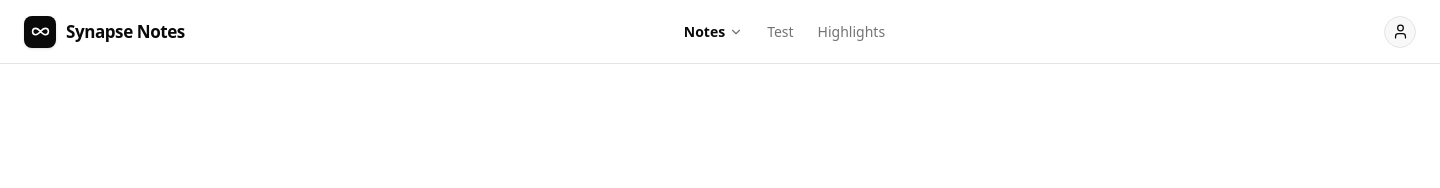
TopBar › the Notes menu lists only subjects, opens on click and closes on Escape
Click the button "Notes". click: (714, 32)
box: [684,17,743,46]
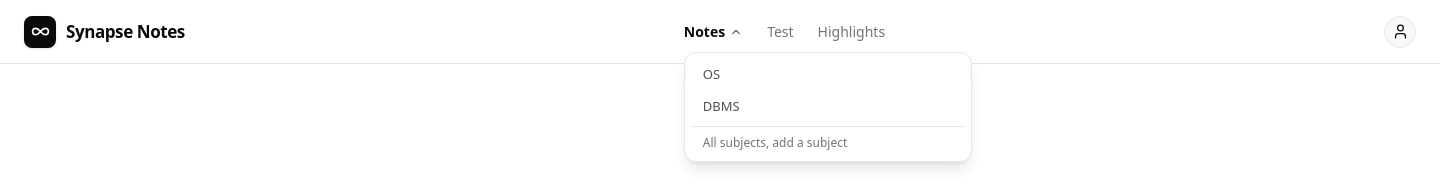
Result: the button "Notes" is expanded at [684,17,743,46]
Result: the link "DBMS" is shown at [703,96,740,114]
Press Escape
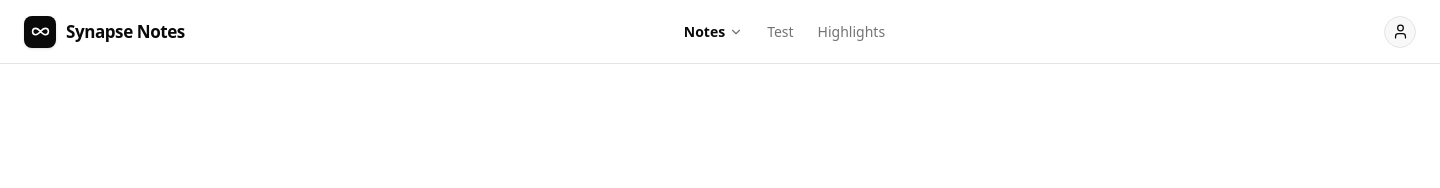
Result: the button "Notes" is collapsed at [684,17,743,46]
